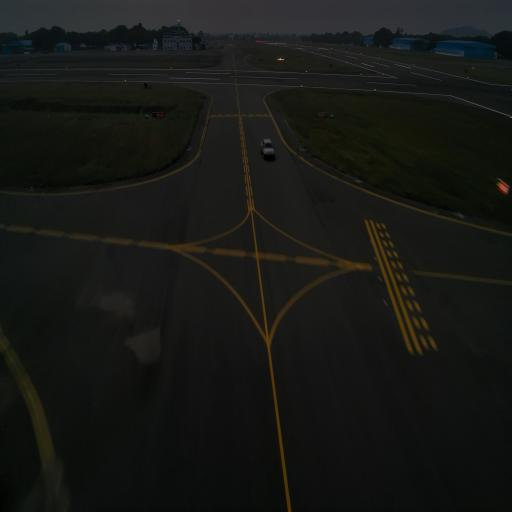on: (189, 144, 192, 150), (299, 145, 302, 151)
